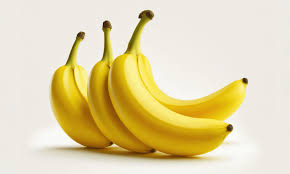banana: (53, 9, 250, 159)
